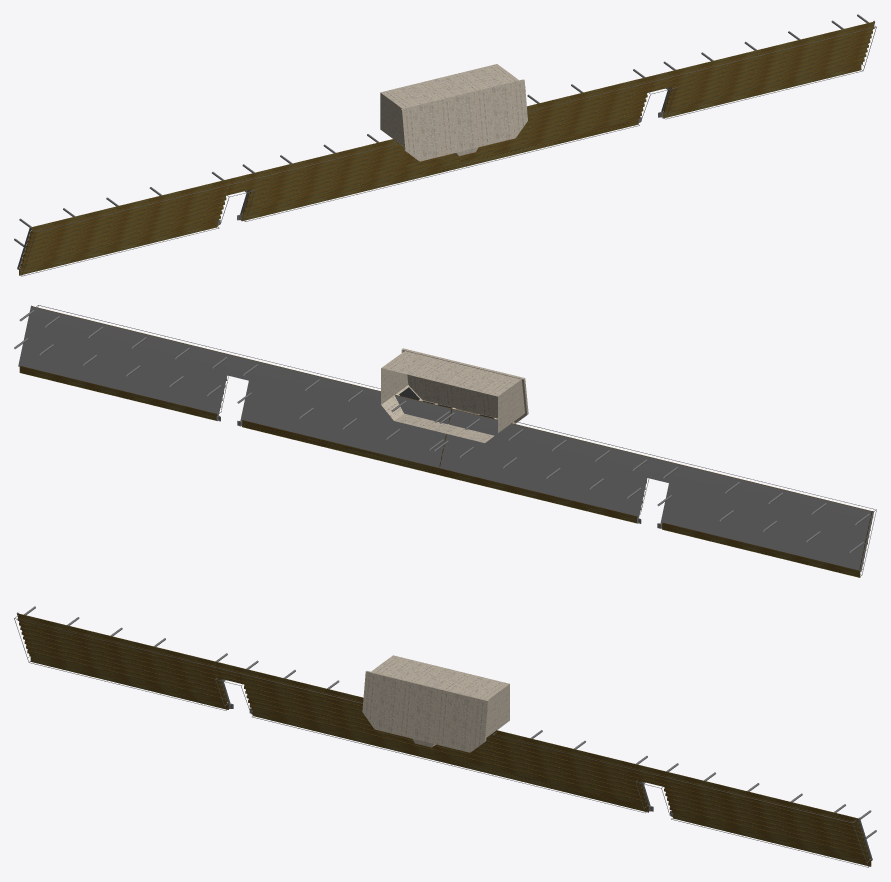
File: grand_stands.obj
3 renders of one model, top to bottom at view 1: azimuth 30°, elevation 25°; view 2: azimuth 150°, elevation 25°; view 3: azimuth 330°, elevation 25°, orthographic.
Parts seen in each view (by area): view 1: (null); view 2: (null); view 3: (null).
Boxes of the visible parts, x1,y1,x2,y2 form: (null): [14, 14, 876, 276]; (null): [14, 305, 876, 577]; (null): [14, 606, 876, 867].
Size of the model in its own units: 164 by 17.67 by 11.85.
4 materials, 2 textured.
